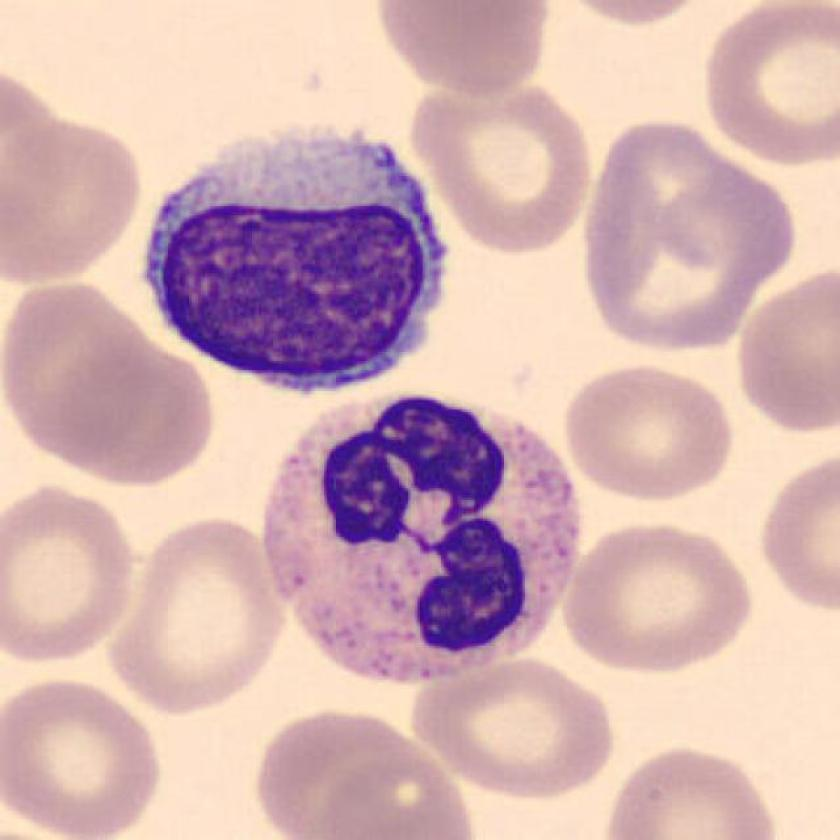lymphocyte: (147, 129, 443, 398)
neutrophil: (265, 392, 585, 674)
